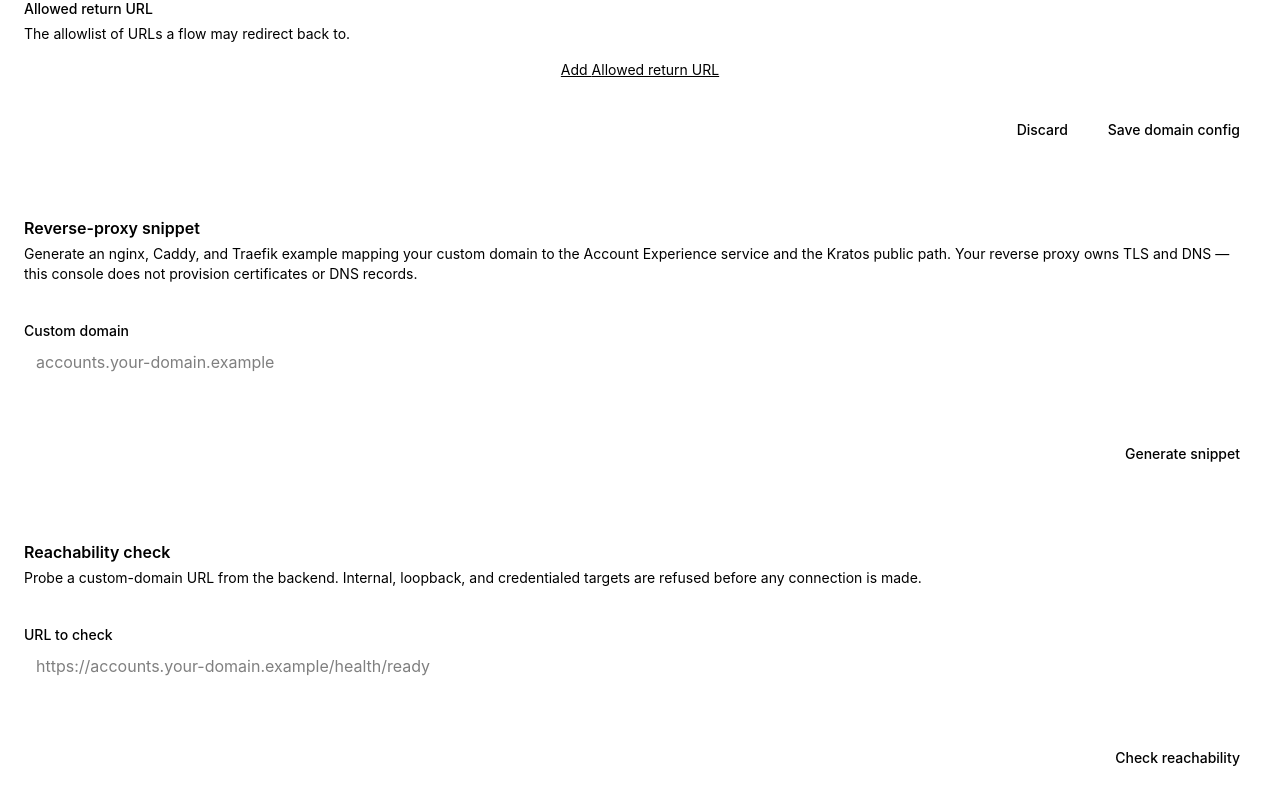
it: Custom Domains page (AX-04) › surfaces an SSRF rejection (422) INLINE and never collapses it into a reachable result (T-15-15)
(page scrolled)
Type "http://kratos:4434/admin/identities" into the field named "url to check for reachability" at (640, 666), box [24,648,1256,684]
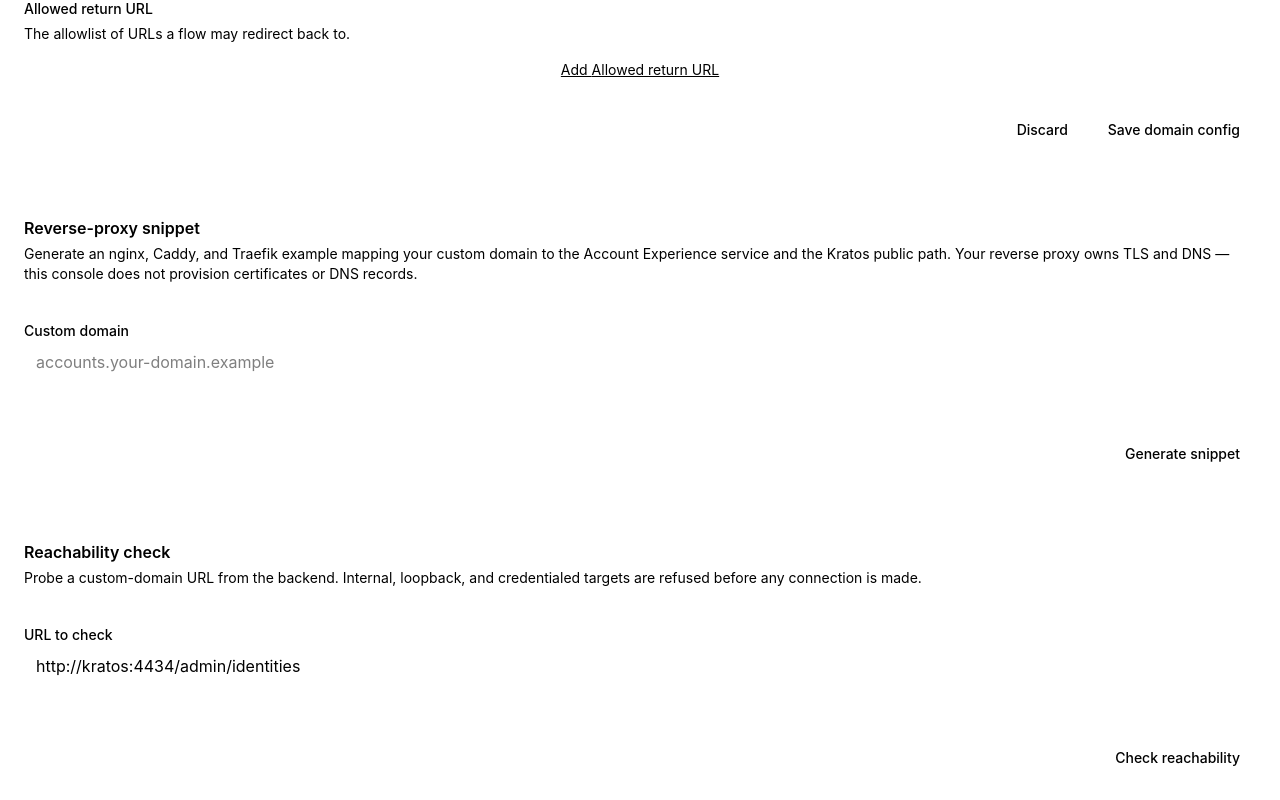
Click the button "Check reachability" at (1178, 758), box [1099,740,1256,776]
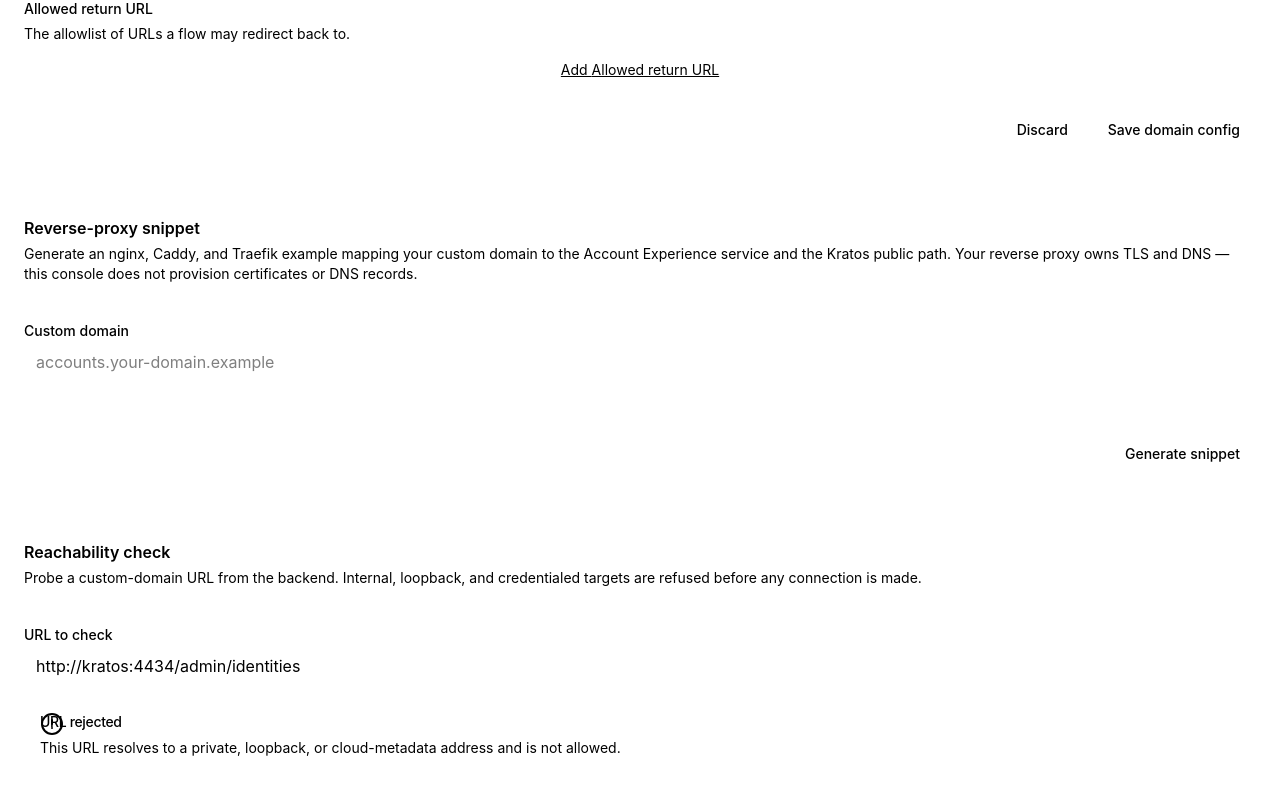
Expected: the text "resolves to a private, loopback, or cloud-metadata address" is shown, [40,739,621,756]
Expected: the heading "URL rejected" is shown, [40,713,122,730]
